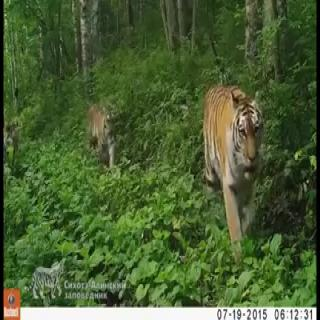Tiger: (200, 81, 266, 266), (84, 94, 118, 174)
